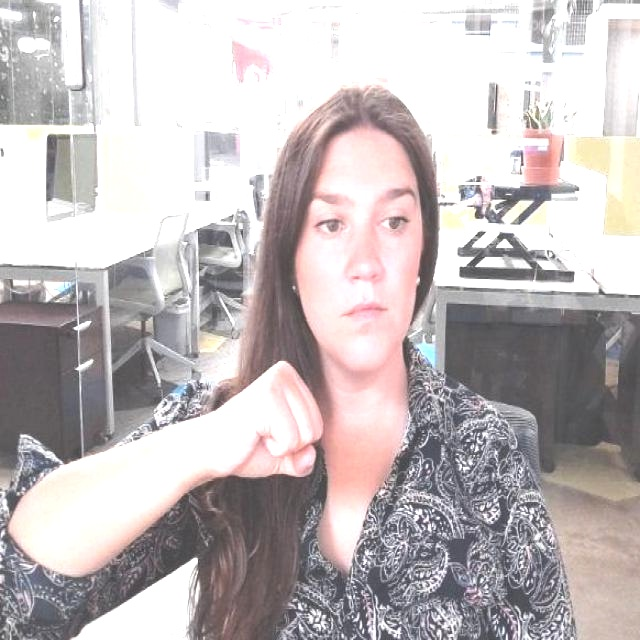Rock: (197, 345, 335, 495)
